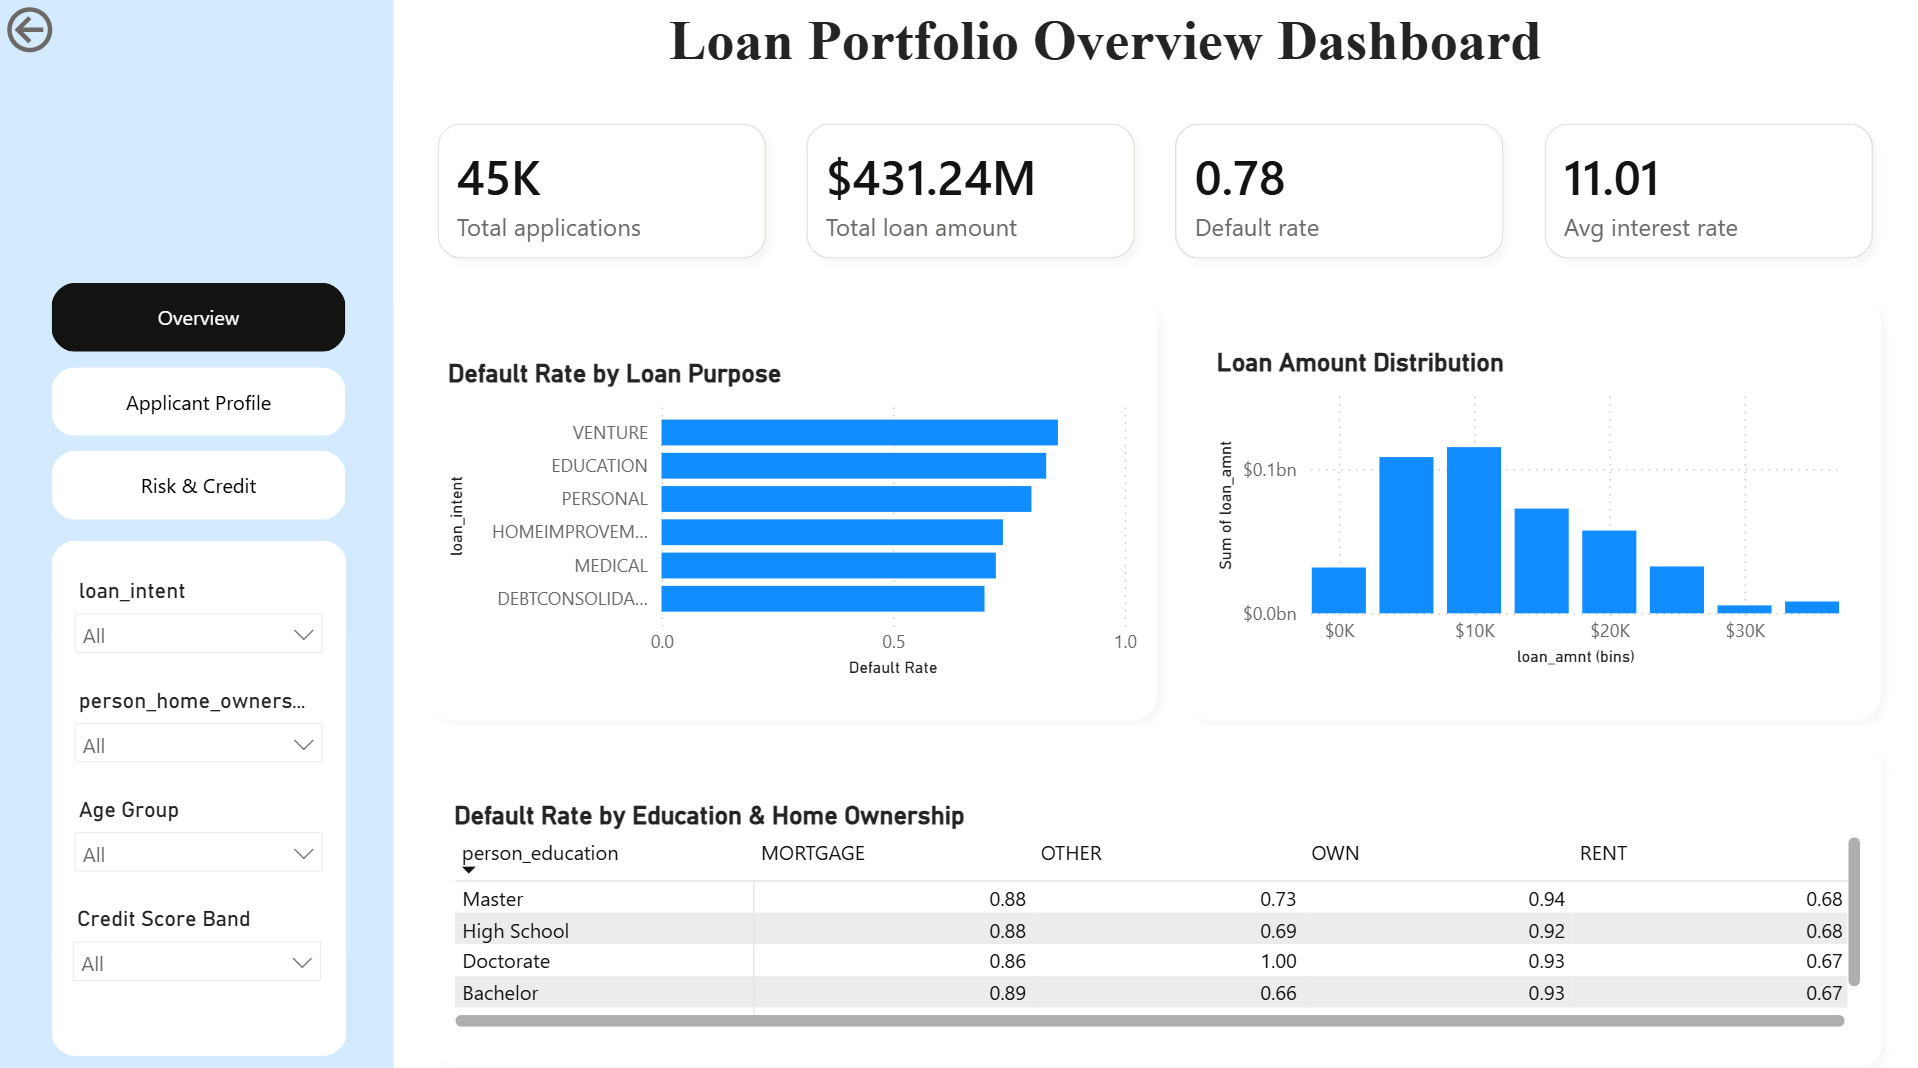

The dashboard page shown, as its layout file describes it:
{"tool":"powerbi","page":{"name":"Overview","canvas":[1280,720],"ordinal":0},"visuals":[{"type":"shape","box":[280.8,488.9,982.1,230.9],"z":0},{"type":"shape","box":[781.1,188.2,481.8,300.8],"z":1000},{"type":"shape","box":[276.5,188.2,504.6,300.8],"z":2000},{"type":"shape","box":[0,0,262.3,719.8],"z":3000},{"type":"pageNavigator","box":[34.2,188.2,196.7,158.2],"z":4000},{"type":"barChart","title":"Default Rate by Loan Purpose","fields":{"Category":["loan_data.loan_intent"],"Y":["loan_data.Default Rate"]},"box":[293.6,238,469,216.7],"z":5000},{"type":"columnChart","title":"Loan Amount Distribution","fields":{"Category":["loan_data.loan_amnt (bins)"],"Y":["Sum(loan_data.loan_amnt)"]},"box":[806.8,230.9,424.8,216.7],"z":6000},{"type":"pivotTable","title":"Default Rate by Education & Home Ownership","fields":{"Rows":["loan_data.person_education"],"Columns":["loan_data.person_home_ownership"],"Values":["loan_data.Default Rate"]},"box":[297.9,533.1,947.9,156.8],"z":7000},{"type":"cardVisual","fields":{"Data":["loan_data.Total applications","Sum(loan_data.loan_amnt)","loan_data.Default Rate","Avg(loan_data.loan_int_rate)"]},"box":[262.3,52.7,1017.7,148.2],"z":8000},{"type":"shape","box":[34.2,360.6,196.7,343.5],"z":9000},{"type":"slicer","fields":{"Values":["loan_data.loan_intent"]},"box":[39.9,380.6,185.3,72.7],"z":10000},{"type":"slicer","fields":{"Values":["loan_data.person_home_ownership"]},"box":[39.9,453.3,185.3,72.7],"z":11000},{"type":"slicer","fields":{"Values":["loan_data.Age Group"]},"box":[39.9,526,185.3,72.7],"z":12000},{"type":"slicer","fields":{"Values":["loan_data.Credit Score Band"]},"box":[38.5,598.7,185.3,72.7],"z":13000},{"type":"actionButton","box":[0,0,100,40],"z":14000},{"type":"textbox","box":[408.6,0,657.1,52.9],"z":15000}]}

Visuals, with their boxes on the page's 1280x720 design canvas (x1, y1, x2, y2). These are canvas units, not pixel positions in the 1918x1068 screenshot, which may show the page scaled, cropped or inside an application window:
shape: BBox(281, 489, 1263, 720)
shape: BBox(781, 188, 1263, 489)
shape: BBox(276, 188, 781, 489)
shape: BBox(0, 0, 262, 720)
pageNavigator: BBox(34, 188, 231, 346)
"Default Rate by Loan Purpose" barChart: BBox(294, 238, 763, 455)
"Loan Amount Distribution" columnChart: BBox(807, 231, 1232, 448)
"Default Rate by Education & Home Ownership" pivotTable: BBox(298, 533, 1246, 690)
cardVisual - loan_data.Total applications x Sum(loan_data.loan_amnt): BBox(262, 53, 1280, 201)
shape: BBox(34, 361, 231, 704)
slicer - loan_data.loan_intent: BBox(40, 381, 225, 453)
slicer - loan_data.person_home_ownership: BBox(40, 453, 225, 526)
slicer - loan_data.Age Group: BBox(40, 526, 225, 599)
slicer - loan_data.Credit Score Band: BBox(38, 599, 224, 671)
actionButton: BBox(0, 0, 100, 40)
textbox: BBox(409, 0, 1066, 53)
